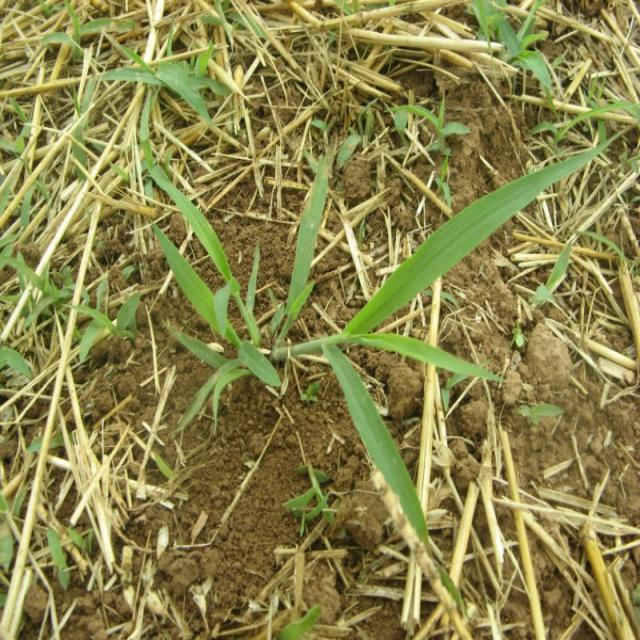bg: (141, 131, 600, 563)
